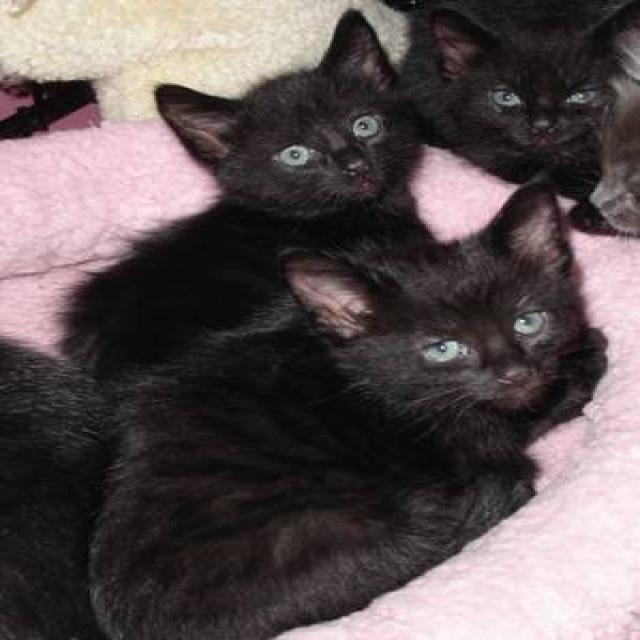cat: (1, 165, 606, 640), (53, 10, 448, 363), (383, 0, 638, 241)
